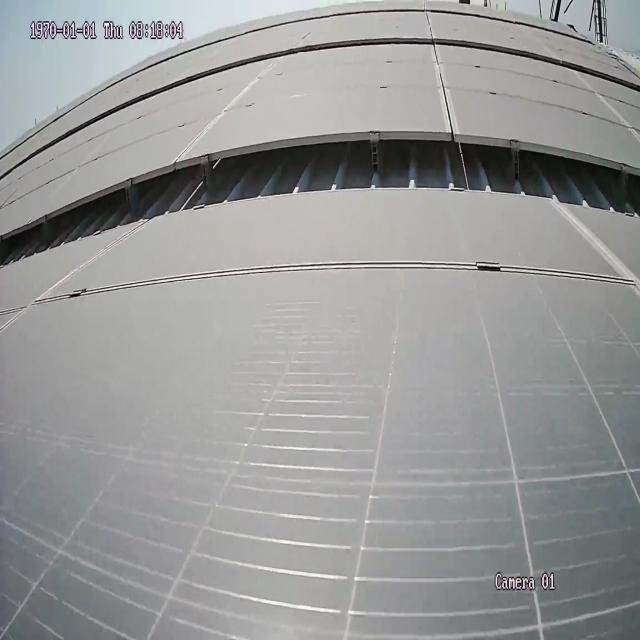interior panel: (23, 206, 640, 312), (427, 53, 464, 124)
outher panel: (3, 130, 633, 273)
